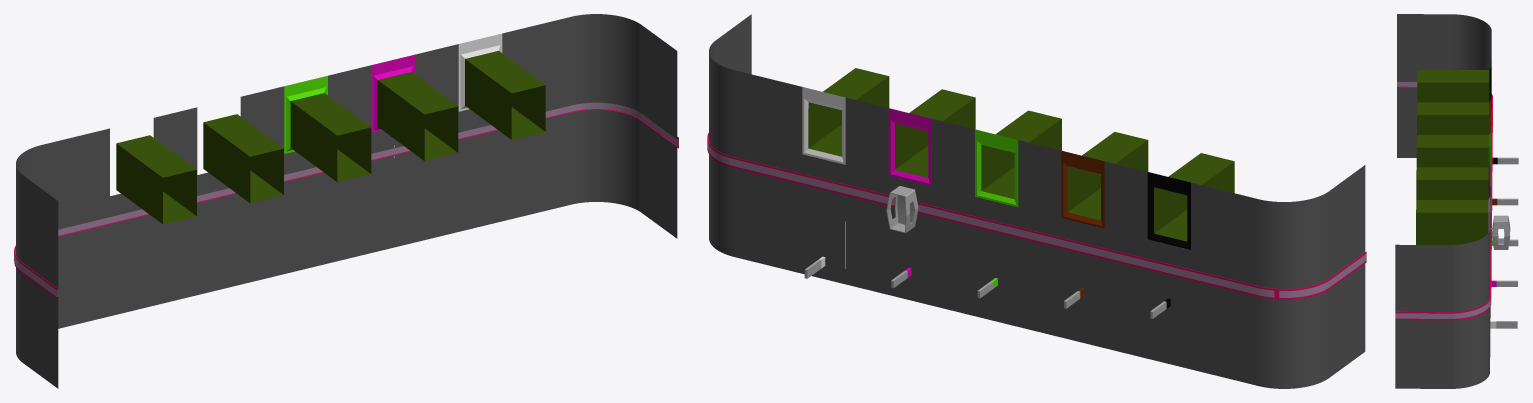
File: Usine_v1.2.fbx
3 views of the same model, side by side, from view 1: azimuth 30°, elevation 25°; view 2: azimuth 150°, elevation 25°; view 3: azimuth 270°, elevation 25° (orthographic). The views are drawn at different scales.
Visible parts, largest first — view 1: polySurface2922; view 2: polySurface2922, polySurface2868; view 3: polySurface2922, polySurface2868.
Boxes of the visible parts, x1,y1,x2,y2 form: polySurface2922: (14, 14, 678, 388); polySurface2922: (707, 14, 1366, 388); polySurface2868: (886, 186, 918, 233); polySurface2922: (1395, 14, 1518, 388); polySurface2868: (1490, 215, 1510, 249).
Size of the model in its own units: 9043 by 2619 by 2034.
